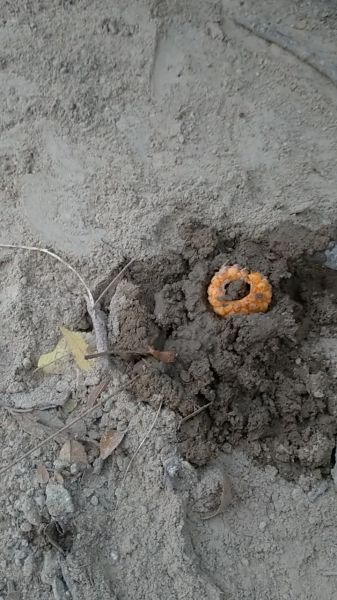eggs: (203, 261, 278, 318)
